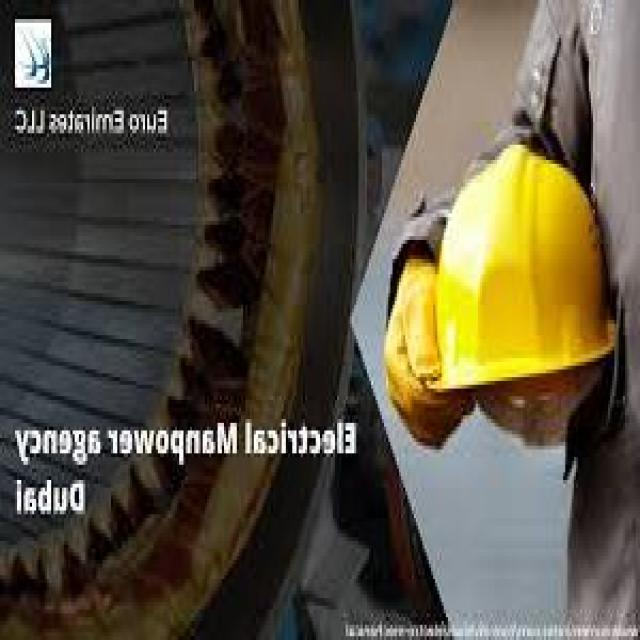Safety-Helmet: (420, 137, 627, 408)
